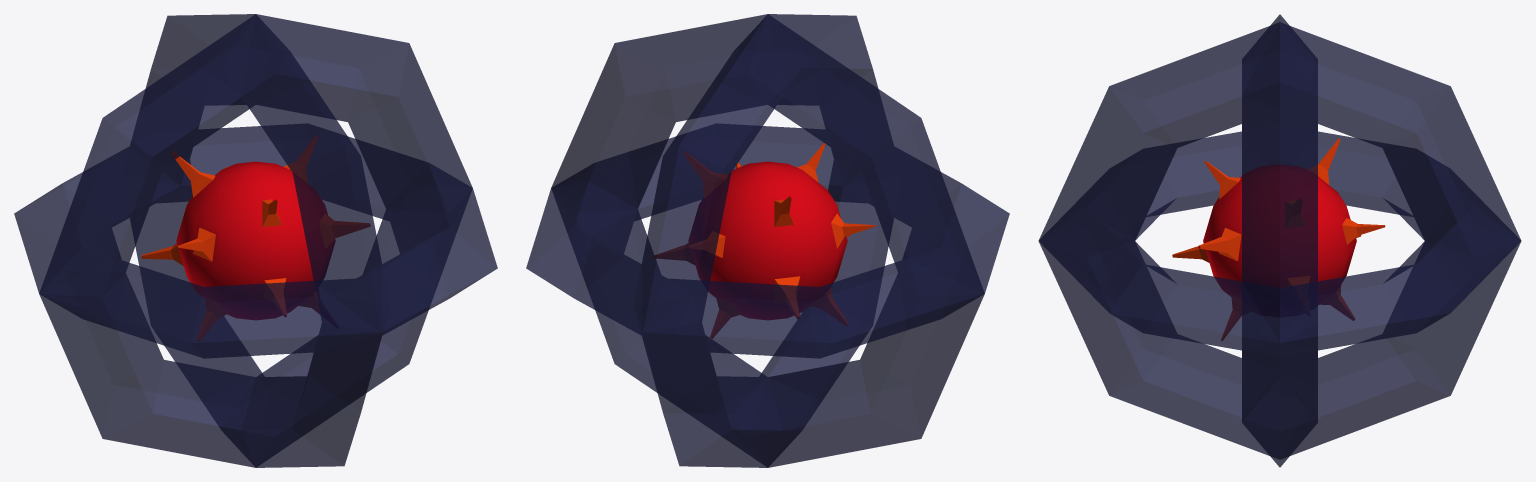
The model's file is CoreReactor.fbx.
The picture shows the model from 3 angles, left to right: view 1: azimuth 30°, elevation 25°; view 2: azimuth 150°, elevation 25°; view 3: azimuth 270°, elevation 25°; orthographic projection. The views are drawn at different scales.
Visible parts, largest first — view 1: Core_LOD0; view 2: Core_LOD0; view 3: Core_LOD0.
Part boxes in pixels (x1=…): Core_LOD0: x1=14, y1=14, x2=497, y2=467; Core_LOD0: x1=526, y1=14, x2=1009, y2=467; Core_LOD0: x1=1038, y1=14, x2=1521, y2=467.
Size of what is drawn, in the model's own units: 1450 by 1450 by 1450.
